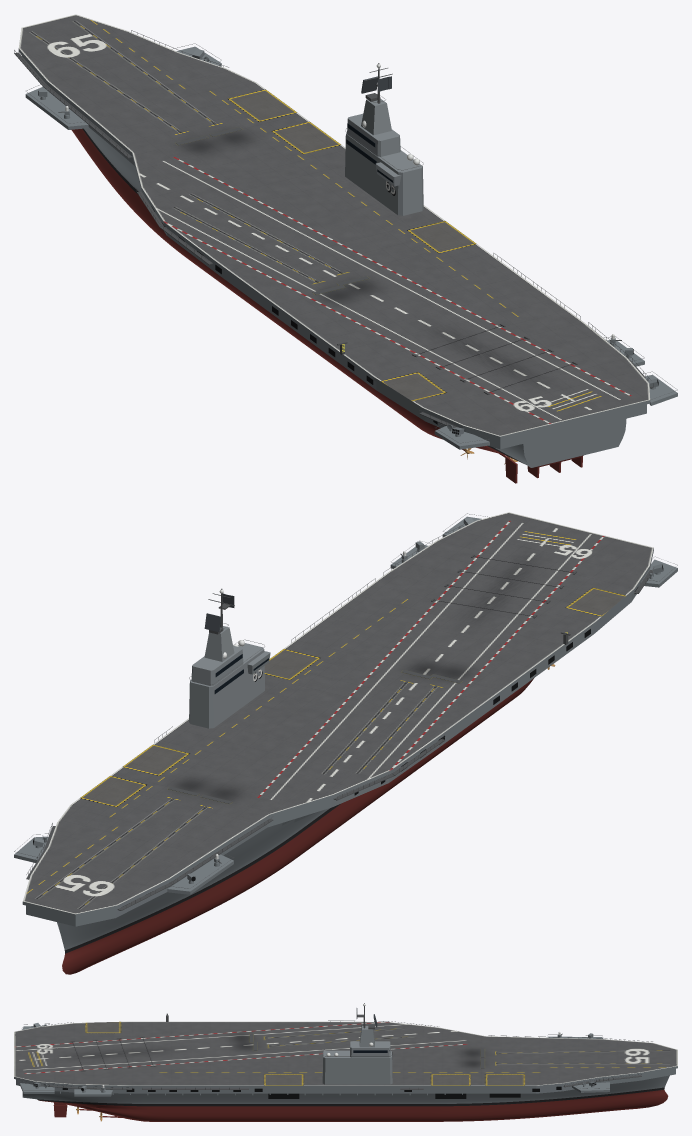
The model's file is enterprise.glb.
The picture shows the model from 3 angles, top to bottom: view 1: azimuth 30°, elevation 25°; view 2: azimuth 150°, elevation 25°; view 3: azimuth 270°, elevation 25°; orthographic projection. The views are drawn at different scales.
Visible parts, largest first — view 1: Flight deck slab, Hull (waterline at Z=0), Gallery deck band, Island main block, Weapon sponsons, Catwalks, Navigation & flag bridge levels, Radar mast tower, Catwalk safety-net frames; view 2: Flight deck slab, Hull (waterline at Z=0), Gallery deck band, Island main block, Weapon sponsons, Catwalks, Navigation & flag bridge levels, Catwalk safety-net frames, Radar mast tower; view 3: Flight deck slab, Hull (waterline at Z=0), Gallery deck band, Island main block, Weapon sponsons, Catwalks, Navigation & flag bridge levels, Hangar bay openings, Catwalk safety-net frames, Radar mast tower, Shafts, struts & rudders, Sea Sparrow, RAM & CIWS mounts (+1 smaller).
Part boxes in pixels (<box>): Flight deck slab: <box>18,14,650,439</box>; Hull (waterline at Z=0): <box>71,127,626,467</box>; Gallery deck band: <box>22,56,646,449</box>; Island main block: <box>345,132,423,215</box>; Weapon sponsons: <box>25,46,677,449</box>; Catwalks: <box>14,52,653,428</box>; Navigation & flag bridge levels: <box>347,113,400,156</box>; Radar mast tower: <box>361,98,391,135</box>; Catwalk safety-net frames: <box>14,30,653,427</box>; Flight deck slab: <box>22,512,653,917</box>; Hull (waterline at Z=0): <box>57,678,533,974</box>; Gallery deck band: <box>26,584,639,926</box>; Island main block: <box>189,643,264,728</box>; Weapon sponsons: <box>14,516,677,894</box>; Catwalks: <box>26,570,653,910</box>; Navigation & flag bridge levels: <box>191,645,243,685</box>; Catwalk safety-net frames: <box>26,522,654,907</box>; Radar mast tower: <box>204,626,234,661</box>; Flight deck slab: <box>14,1021,677,1087</box>; Hull (waterline at Z=0): <box>22,1075,669,1121</box>; Gallery deck band: <box>16,1068,675,1093</box>; Island main block: <box>322,1050,392,1084</box>; Weapon sponsons: <box>19,1025,609,1096</box>; Catwalks: <box>40,1075,641,1089</box>; Navigation & flag bridge levels: <box>350,1041,390,1057</box>; Hangar bay openings: <box>268,1093,520,1098</box>; Catwalk safety-net frames: <box>39,1020,652,1089</box>; Radar mast tower: <box>359,1026,374,1047</box>; Shafts, struts & rudders: <box>53,1102,122,1117</box>; Sea Sparrow, RAM & CIWS mounts: <box>33,1023,596,1092</box>.
Bounding box in the file's own units: 85.04 × 73.9 × 342.
15 materials, 1 textured.
